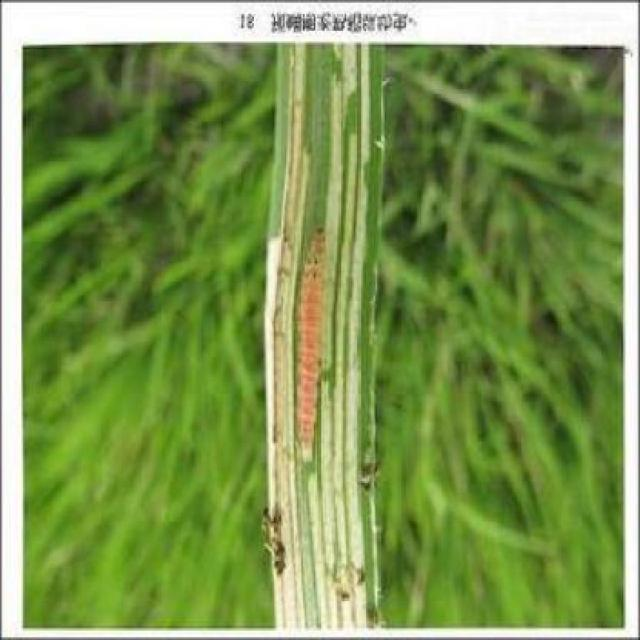leaf-folder: (282, 205, 332, 493)
